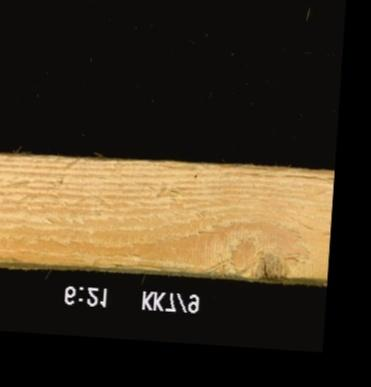edge_knot: (245, 242, 312, 281)
split: (109, 260, 187, 270)
